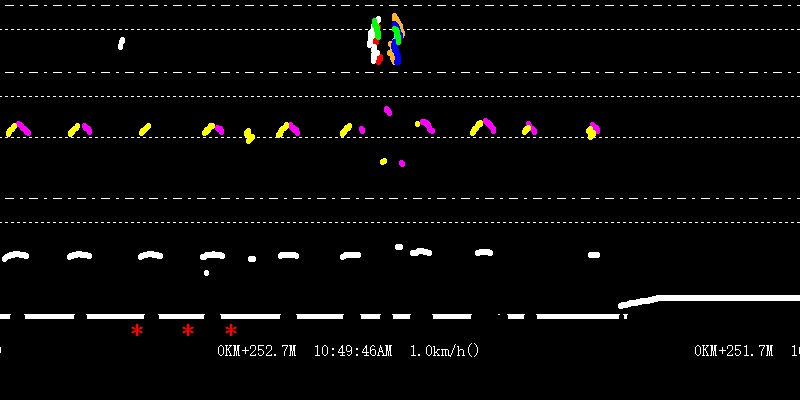J: (366, 3, 404, 69)
face_down: (113, 23, 129, 52)
star: (177, 323, 197, 339), (220, 324, 240, 338), (130, 321, 144, 339)
